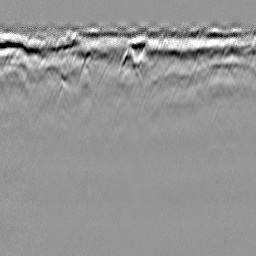cavity: (119, 46, 135, 73)
